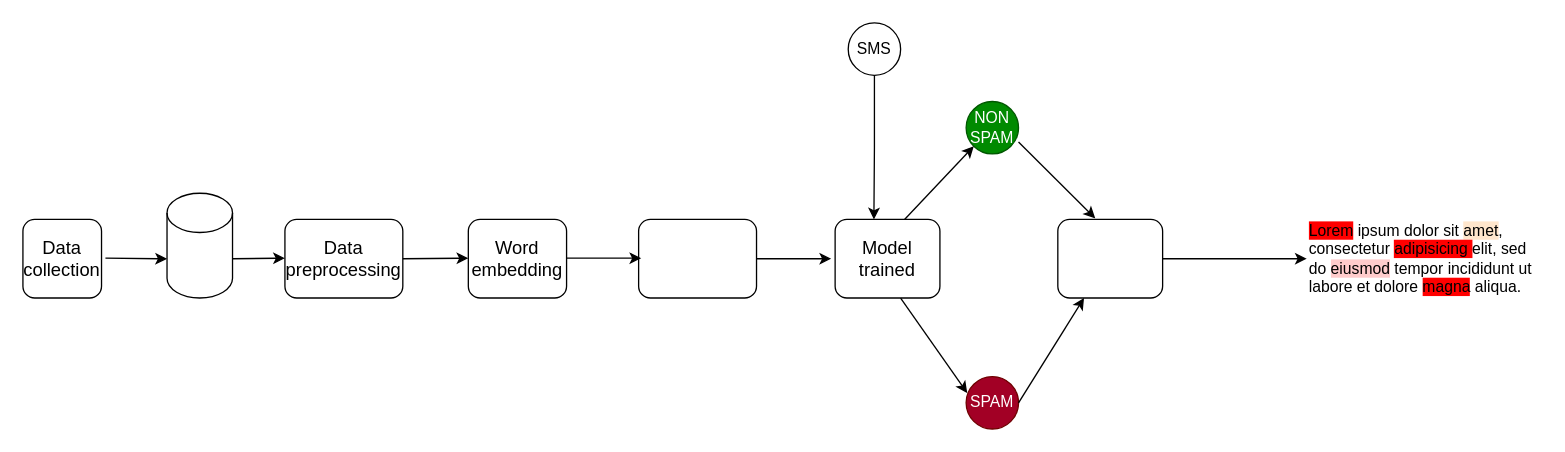
The diagram is 1565 pixels wide and 452 high, and some of its shapes have lost their labels. Here are the shapes that lost their labels. From the top down, the centre of each, then its label:
At point 199,245: "Dataset".
At point 697,258: "Training deep learning model".
At point 1110,258: "explainability model".
